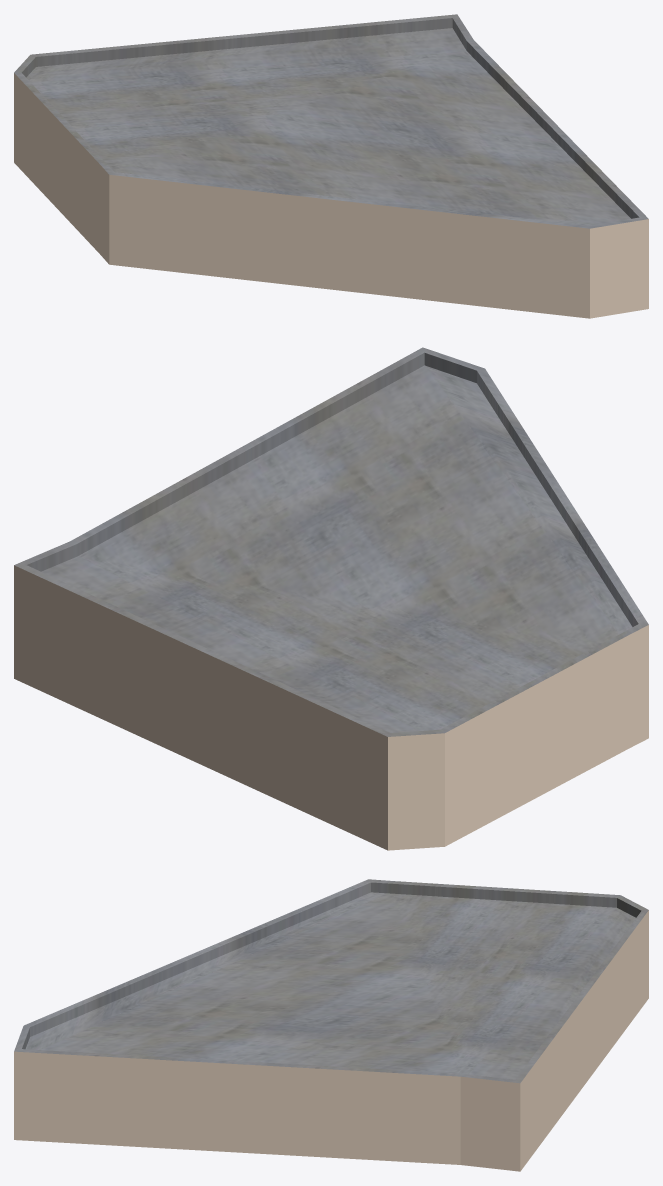
Rendered from PARKING.glb.
The picture shows the model from 3 angles, top to bottom: view 1: azimuth 30°, elevation 25°; view 2: azimuth 150°, elevation 25°; view 3: azimuth 270°, elevation 25°; orthographic projection. The views are drawn at different scales.
Parts seen in each view (by area): view 1: Cube.024; view 2: Cube.024; view 3: Cube.024.
Part boxes in pixels (x1,y1,x2,y2): Cube.024: [14, 14, 648, 318]; Cube.024: [14, 347, 648, 850]; Cube.024: [14, 879, 648, 1171].
Size of the model in its own units: 66.39 by 13.41 by 87.32.
Materials: 2 (1 with a texture image).
